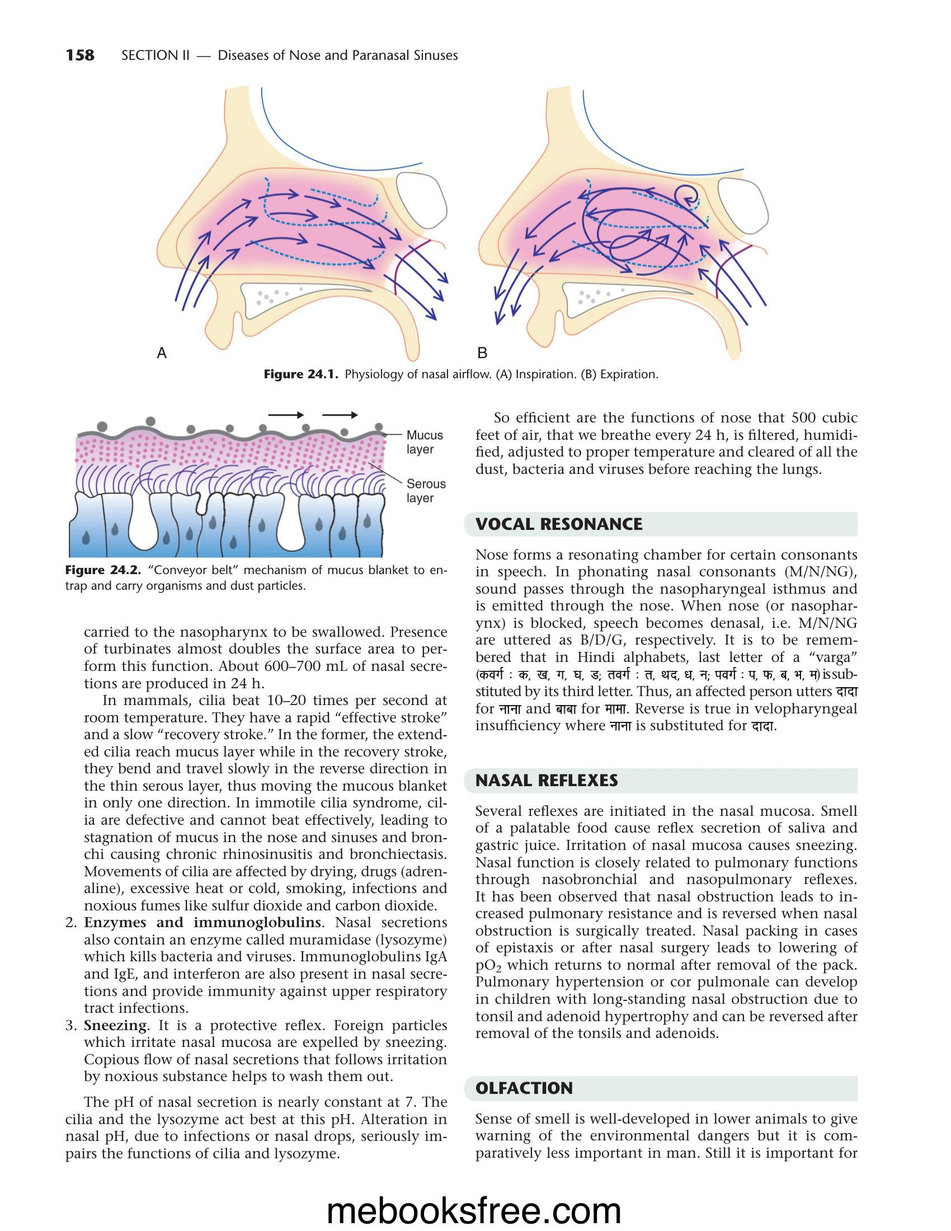caption: (64, 563, 449, 594), (263, 367, 659, 382), (155, 345, 169, 359), (477, 344, 489, 360)
header: (121, 49, 459, 61)
image: (463, 74, 783, 364), (138, 76, 457, 364), (64, 397, 450, 561)
section-heading: (475, 516, 644, 531), (474, 772, 619, 787), (475, 1080, 573, 1095)
text: (61, 623, 447, 1163), (474, 804, 859, 1040), (474, 547, 859, 734), (475, 410, 859, 479), (474, 1112, 859, 1163)
